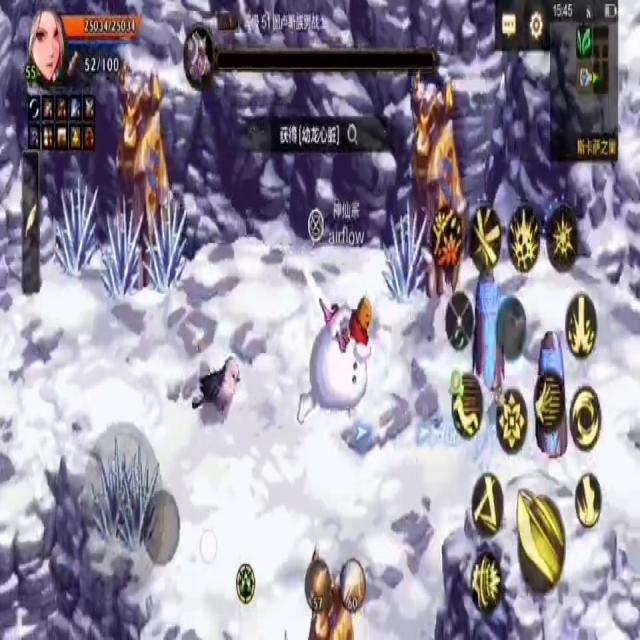player: (294, 279, 372, 432)
